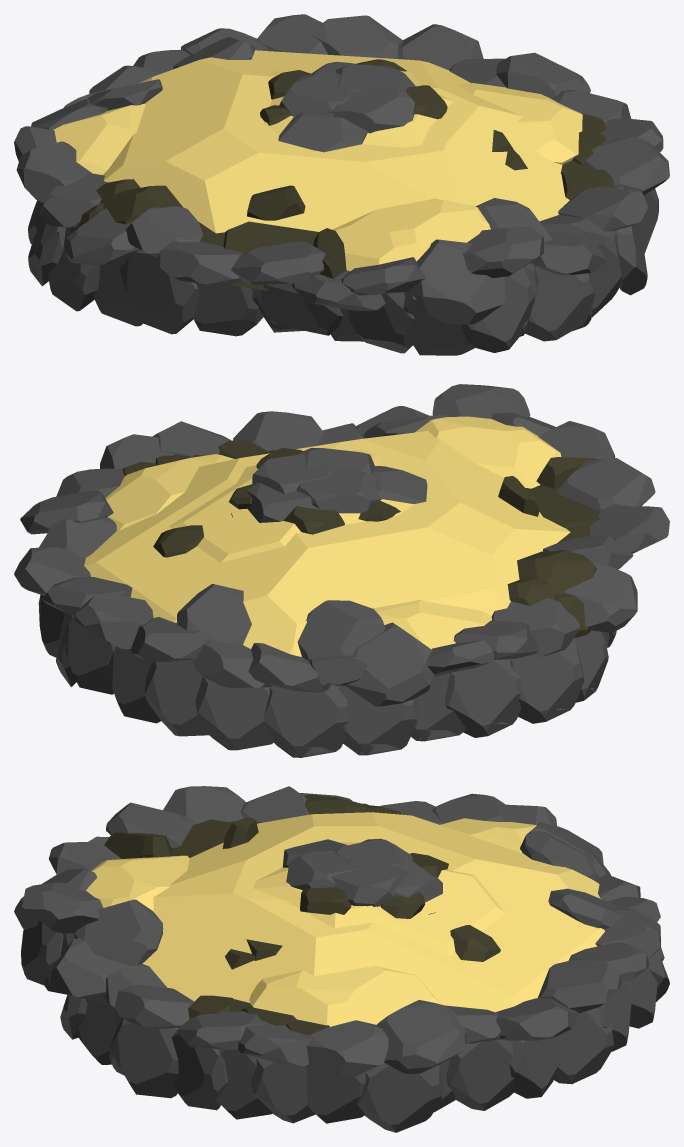
File: Islandfbx.fbx
The picture shows the model from 3 angles, top to bottom: view 1: azimuth 30°, elevation 25°; view 2: azimuth 150°, elevation 25°; view 3: azimuth 270°, elevation 25°; orthographic projection. The views are drawn at different scales.
Parts seen in each view (by area): view 1: Sphere, Sphere.001, Sphere.002; view 2: Sphere, Sphere.001, Sphere.002; view 3: Sphere, Sphere.001, Sphere.002.
Part boxes in pixels (x1,y1,x2,y2): Sphere: (14,14,669,355); Sphere.001: (53,50,582,271); Sphere.002: (70,59,614,305); Sphere: (14,384,669,757); Sphere.001: (84,416,570,656); Sphere.002: (123,440,599,637); Sphere: (14,786,669,1132); Sphere.001: (86,812,604,1026); Sphere.002: (104,794,500,1034).
Bounding box in the file's own units: 3626 × 1048 × 3799.
